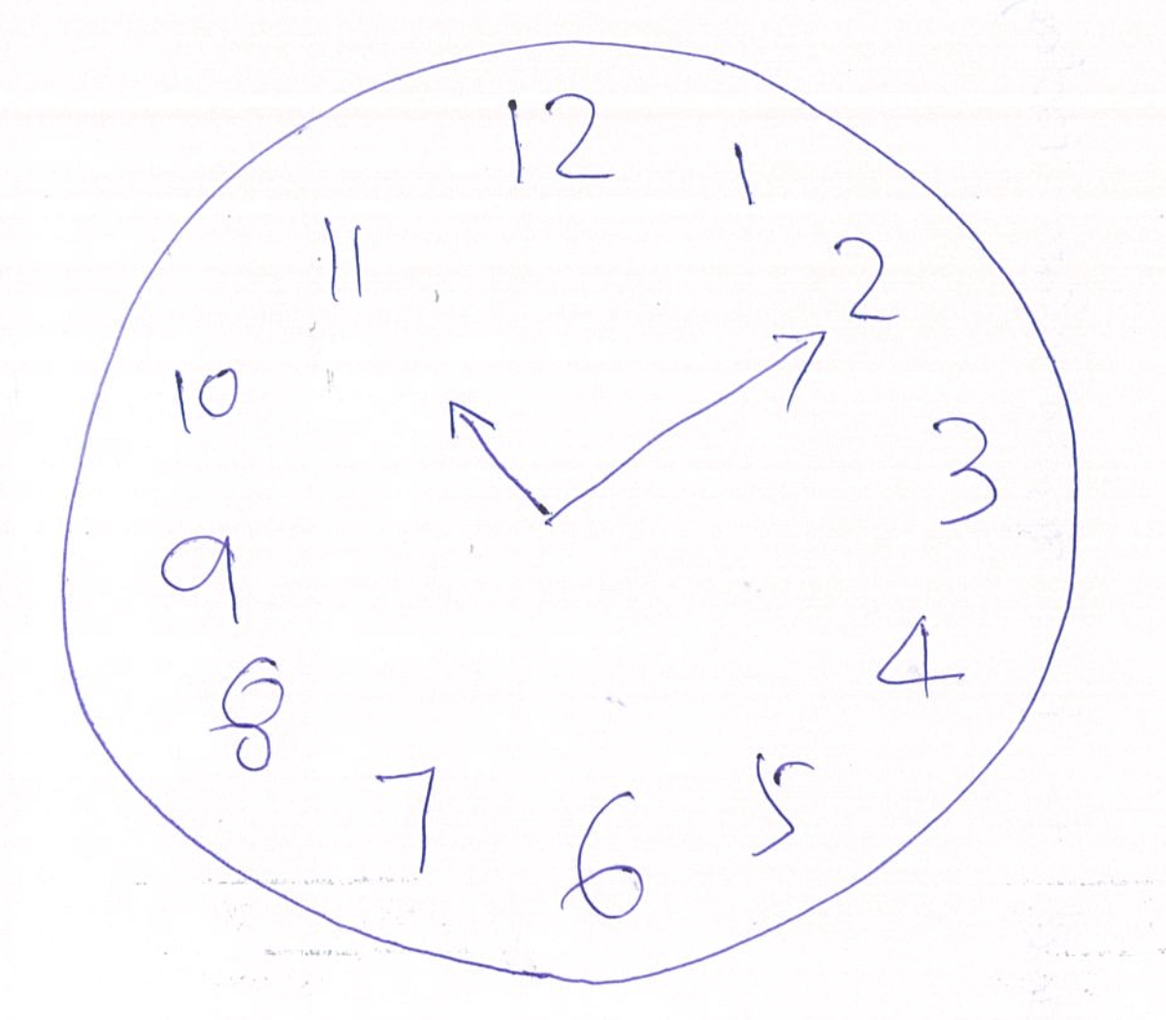1: (727, 138, 768, 214)
10: (167, 363, 243, 437)
11: (309, 210, 371, 307)
12: (489, 86, 617, 193)
2: (827, 231, 906, 331)
3: (925, 409, 1005, 531)
4: (871, 615, 969, 713)
5: (742, 743, 818, 865)
6: (556, 791, 654, 923)
7: (372, 758, 445, 878)
8: (207, 652, 293, 778)
9: (155, 531, 244, 640)
contour: (53, 31, 1089, 991)
hand: (445, 319, 822, 529)
top_left_arrow: (445, 397, 550, 523)
top_right_arrow: (554, 326, 833, 522)
